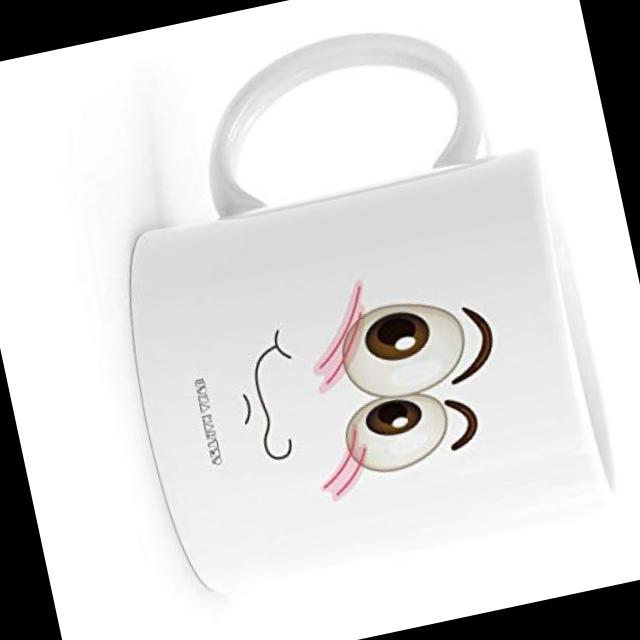Coffee Mug: (70, 0, 630, 601)
